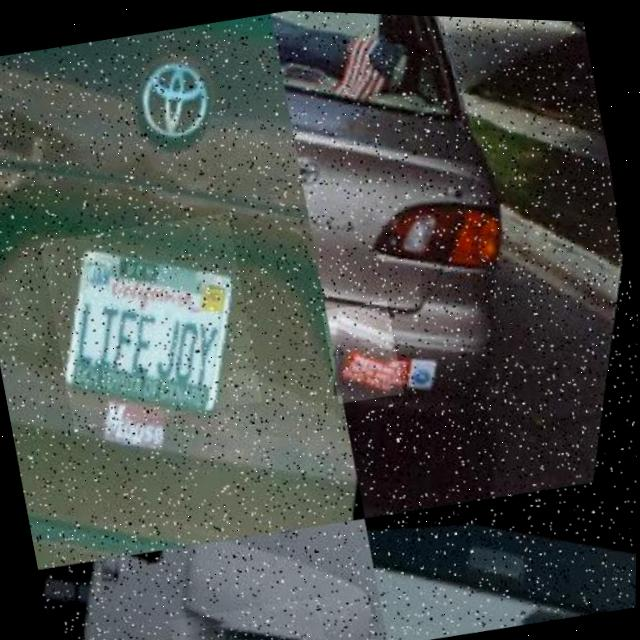LicensePlate: (39, 205, 264, 436), (322, 296, 406, 403), (170, 590, 330, 640)
